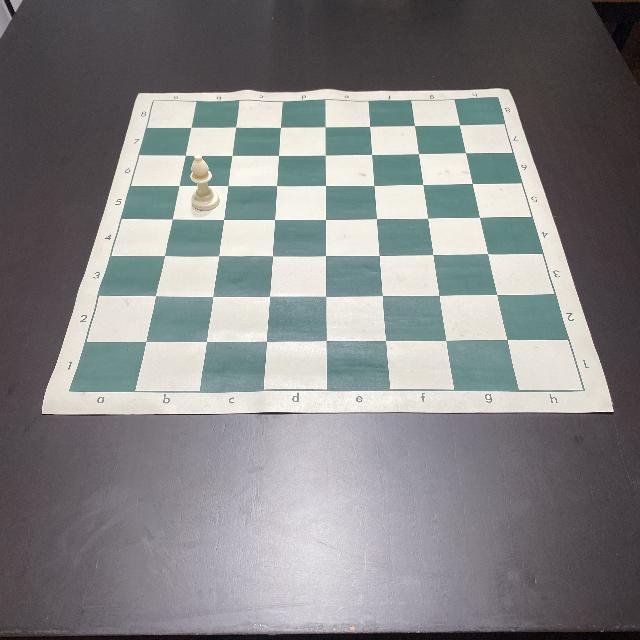board: (41, 89, 614, 414)
white-bishop: (190, 154, 220, 210)
